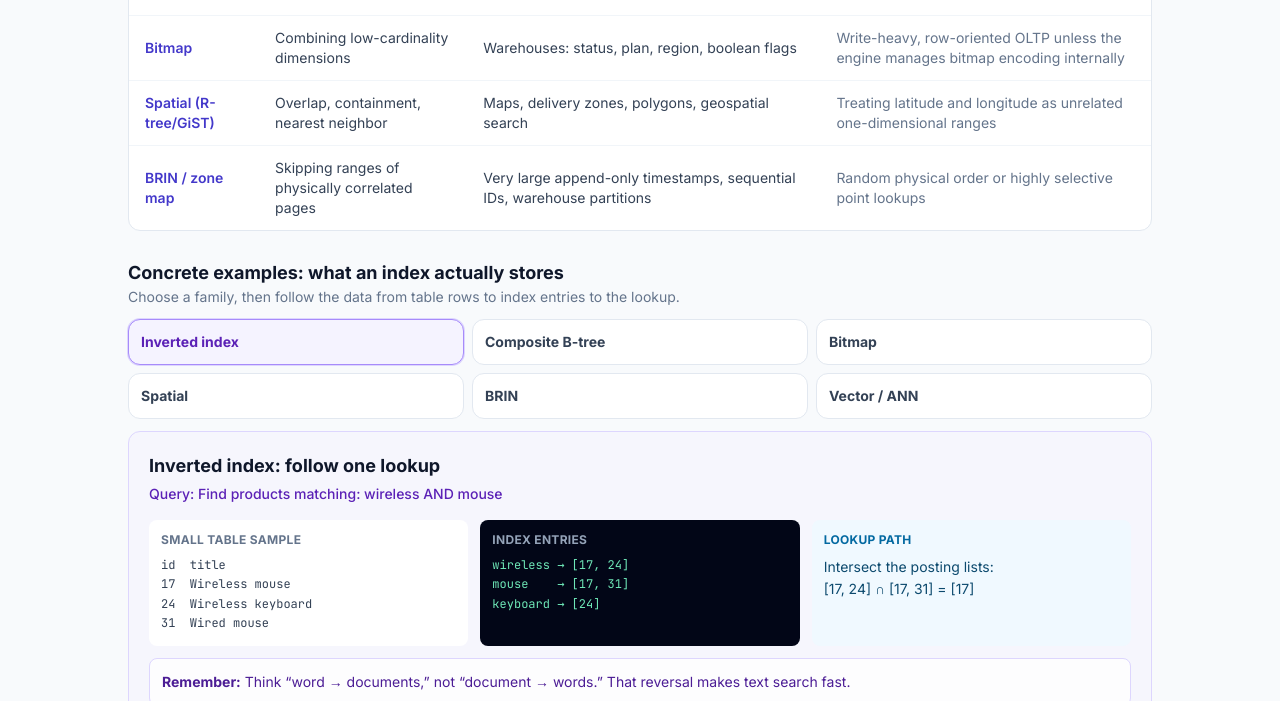
Test: database index selection › walks through concrete index entries for each family
(page scrolled)
Expected: the text "wireless → [17, 24] mouse → [17, 31] keyboard → [24]" is shown, [492, 556, 629, 612]
Step 1. Click the tab "Bitmap" → x=853, y=341, box [816, 318, 1152, 364]
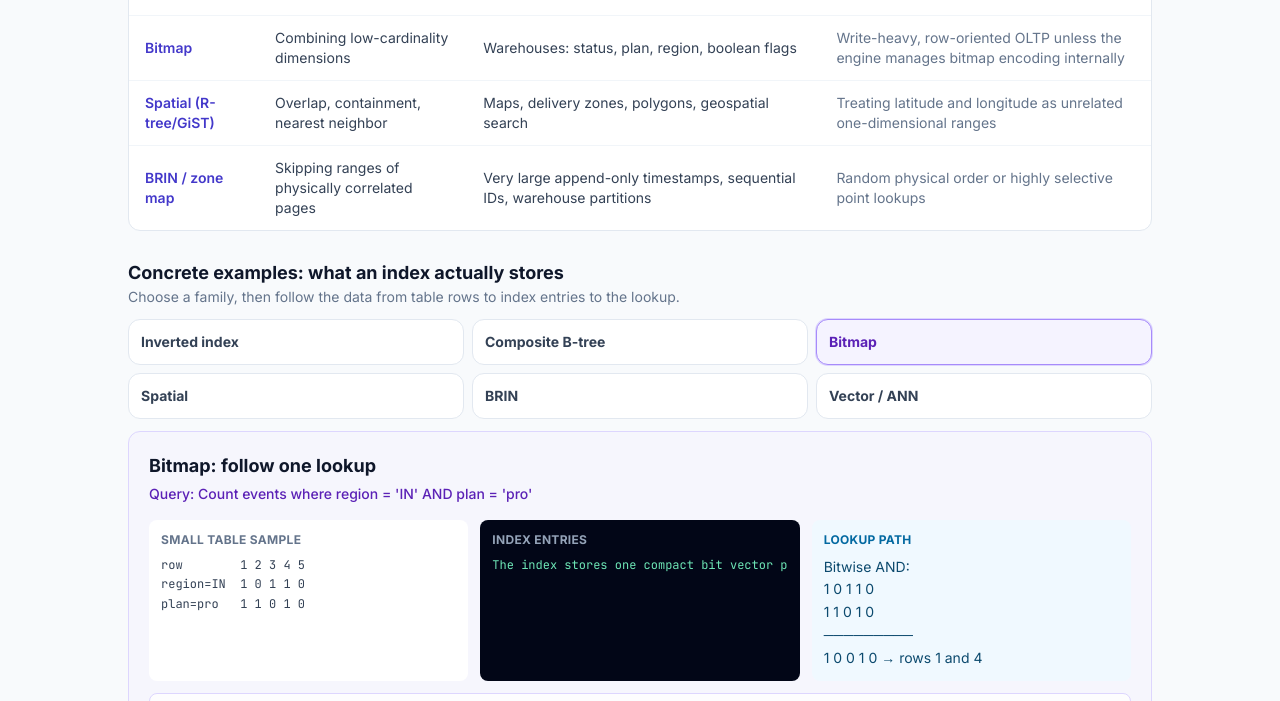
Result: the text "rows 1 and 4" is shown at [824, 558, 982, 666]
